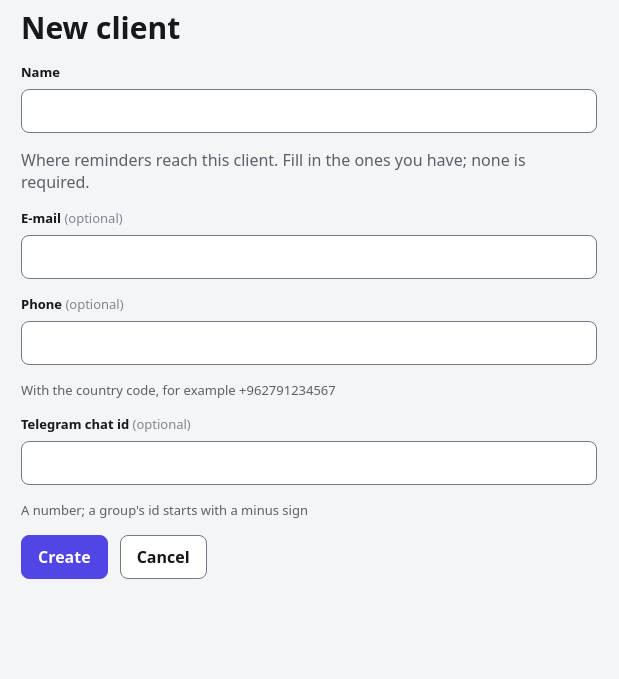
Test: creating a client › says what is wrong beside the field, and sends nothing
Type "P" into the field labelled "Name".
click(309, 111); type("P")  # box top-left (21, 89), bottom-right (597, 133)
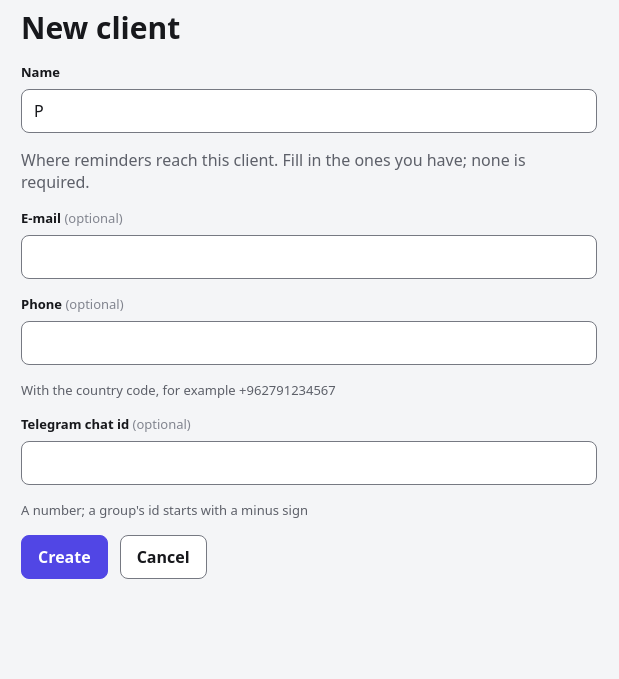
Type "0791234567" into the field labelled "Phone (optional)".
click(309, 343); type("0791234567")  # box top-left (21, 321), bottom-right (597, 365)
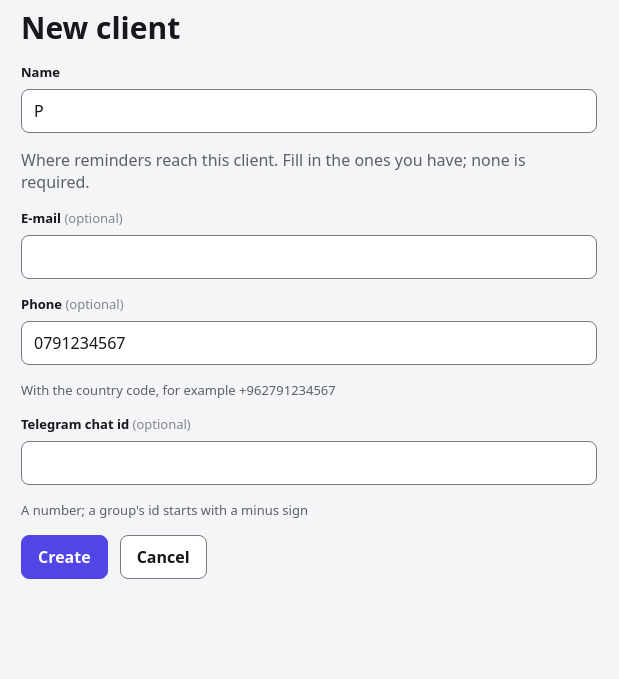
Click the button "Create".
click(64, 557)  # box top-left (21, 535), bottom-right (108, 579)
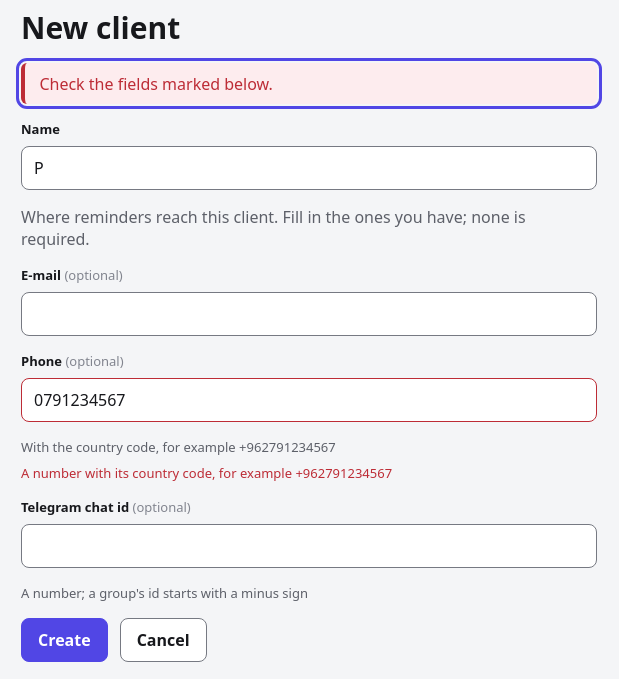
Expected: the message reads "Check the fields marked below.", top-left (39, 73), bottom-right (273, 95)
